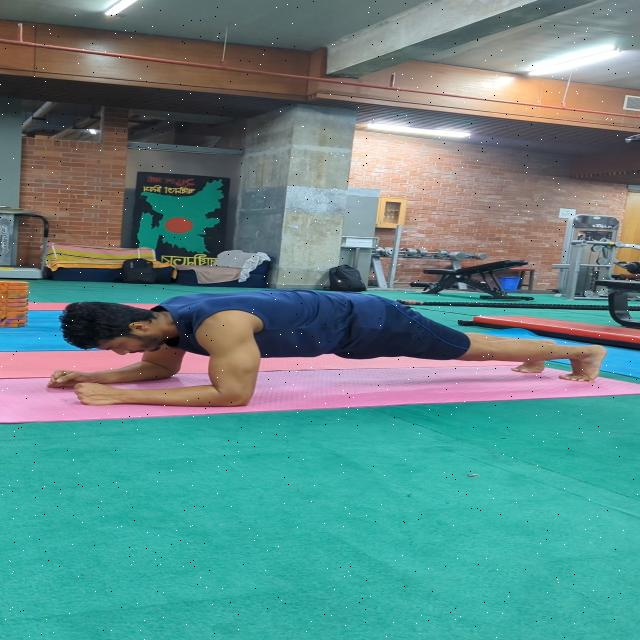Normal_Plunk: (30, 285, 612, 409)
